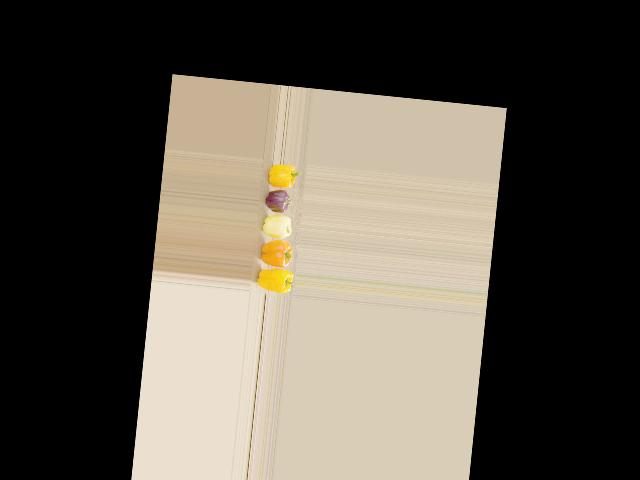bell_pepper: (261, 160, 302, 187)
